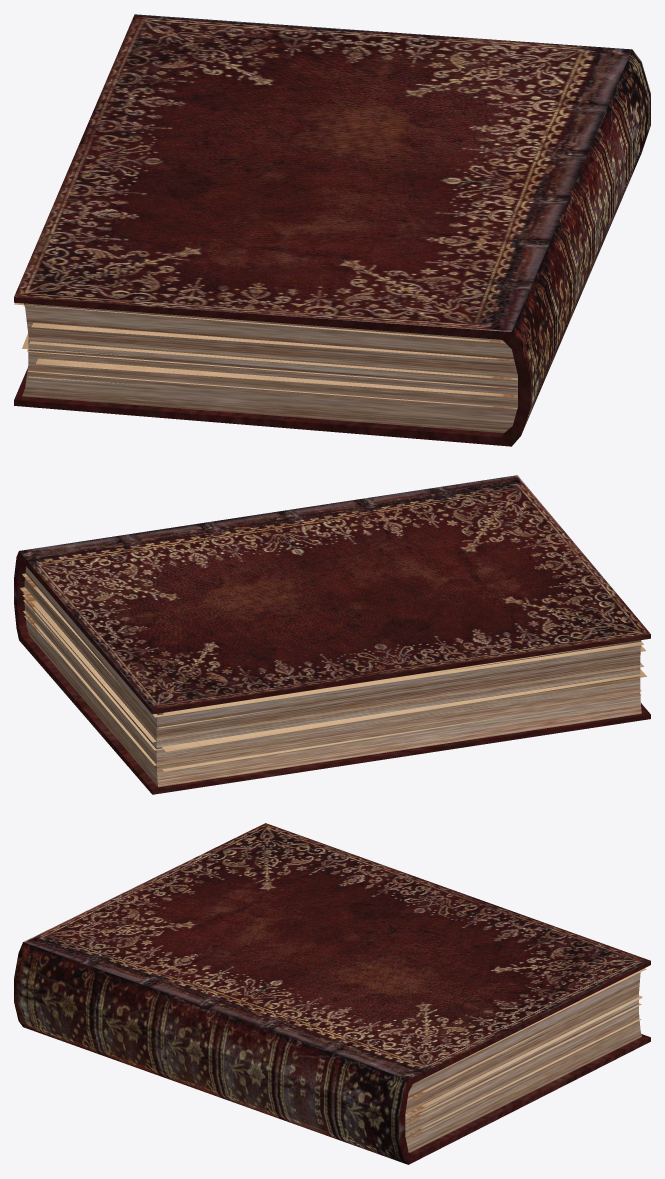
The model's file is BSN_Education_Ani_BookC.gltf.
The picture shows the model from 3 angles, top to bottom: view 1: azimuth 30°, elevation 25°; view 2: azimuth 150°, elevation 25°; view 3: azimuth 270°, elevation 25°; orthographic projection. The views are drawn at different scales.
Parts seen in each view (by area): view 1: book2.001; view 2: book2.001; view 3: book2.001.
Part boxes in pixels (x1,y1,x2,y2): book2.001: [14, 14, 650, 446]; book2.001: [14, 475, 650, 794]; book2.001: [14, 823, 650, 1164].
Bounding box in the file's own units: 15.6 × 2.35 × 15.94.
1 material, 1 textured.
